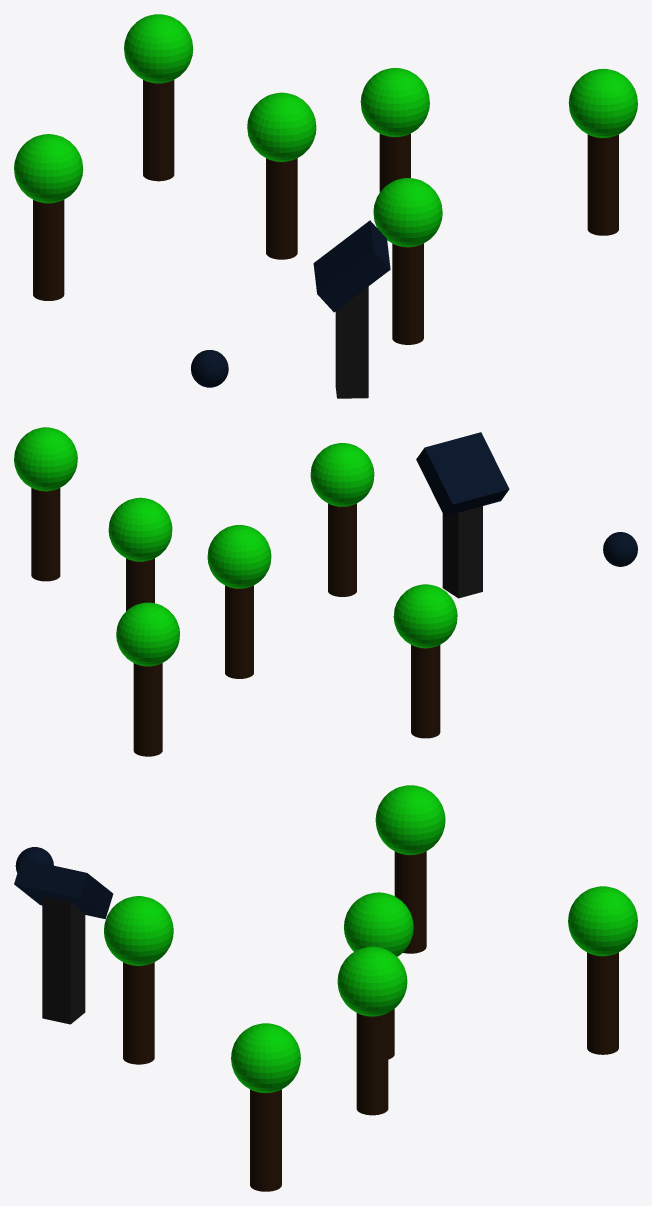
Rendered from exercise20032.obj.
The picture shows the model from 3 angles, top to bottom: view 1: azimuth 30°, elevation 25°; view 2: azimuth 150°, elevation 25°; view 3: azimuth 270°, elevation 25°; orthographic projection. The views are drawn at different scales.
Visible parts, largest first — view 1: Cube.001, Sphere.005, Sphere.002, Sphere.006, Sphere, Sphere.003, Sphere.004, Cube, Cylinder.002, Cylinder.003, Cylinder.005, Cylinder.004 (+4 smaller); view 2: Cube.001, Cube, Sphere, Sphere.005, Sphere.006, Sphere.003, Sphere.004, Sphere.002, Cylinder.003, Cylinder.005, Cylinder.006, Cylinder.002 (+4 smaller); view 3: Cube, Sphere, Sphere.006, Sphere.004, Sphere.005, Sphere.003, Sphere.002, Cube.001, Cylinder.004, Cylinder.003, Cylinder.005, Cylinder (+2 smaller).
Part boxes in pixels (x1,y1,x2,y2): Cube.001: (313,220,390,312); Sphere.005: (124,14,193,83); Sphere.002: (247,92,316,161); Sphere.006: (14,134,83,203); Sphere: (360,68,429,136); Sphere.003: (568,68,637,137); Sphere.004: (373,178,442,247); Cube: (335,286,368,398); Cylinder.002: (266,158,297,259); Cylinder.003: (587,134,618,235); Cylinder.005: (143,80,174,181); Cylinder.004: (392,243,423,344); Cube.001: (416,432,509,516); Cube: (442,506,482,598); Sphere: (108,497,172,561); Sphere.005: (116,602,179,666); Sphere.006: (393,584,457,648); Sphere.003: (14,427,77,491); Sphere.004: (310,443,374,506); Sphere.002: (207,525,271,588); Cylinder.003: (31,488,60,581); Cylinder.005: (133,663,162,756); Cylinder.006: (411,645,440,738); Cylinder.002: (225,585,253,678); Cube: (42,896,85,1024); Sphere: (337,946,407,1016); Sphere.006: (375,785,445,854); Sphere.004: (104,896,173,965); Sphere.005: (568,886,637,956); Sphere.003: (231,1023,300,1092); Sphere.002: (344,892,413,956); Cube.001: (14,859,113,919); Cylinder.004: (123,962,154,1064); Cylinder.003: (250,1089,281,1191); Cylinder.005: (587,952,618,1054); Cylinder: (356,1013,388,1114).
Size of what is drawn, in the model's own units: 40.53 by 11.23 by 39.13.
